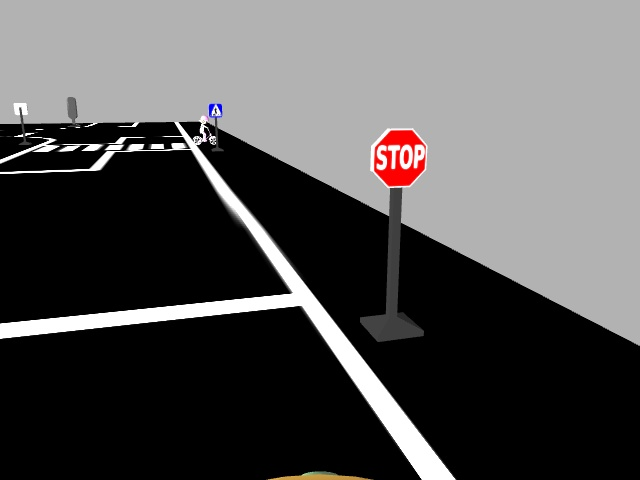Stop: (366, 125, 428, 193)
